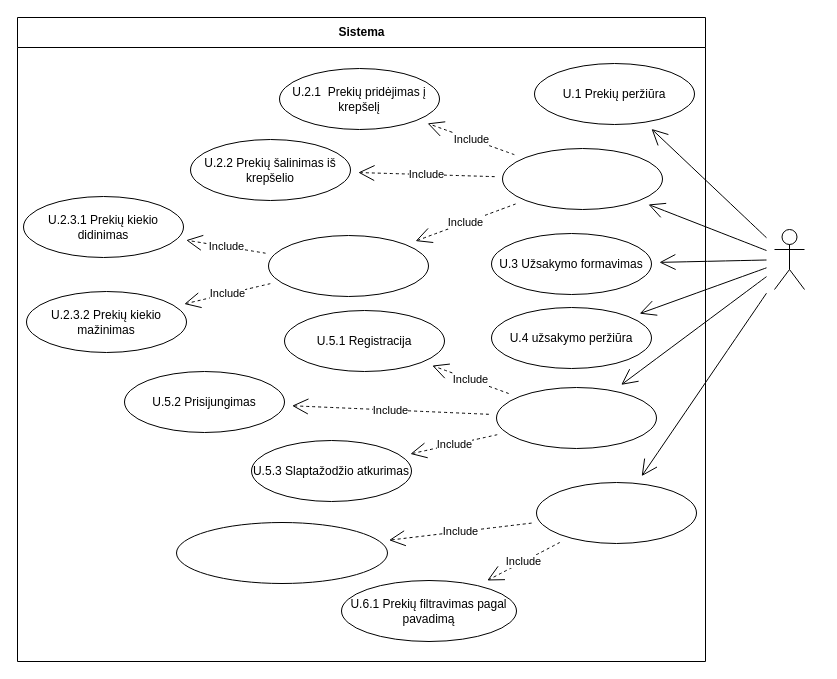
This 837x679 diagram has some shape labels left out. The shapes that lost their labels are listed below. From the top down, each one's centre as x and y in pixels, then its label:
the point at 582,179: U.2 Krepšelio formavimas
the point at 348,265: U.2.3 Prekių kiekio keitimas
the point at 789,259: Naudotojas
the point at 576,417: U.5 Registracijos sistema
the point at 616,513: U.6 Prekių filtravimas
the point at 282,553: U.6.2 Prekių filtravimas pagal kainą ir specifikacijos duomenis
